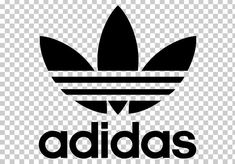adidas Originale: (36, 3, 202, 161)
